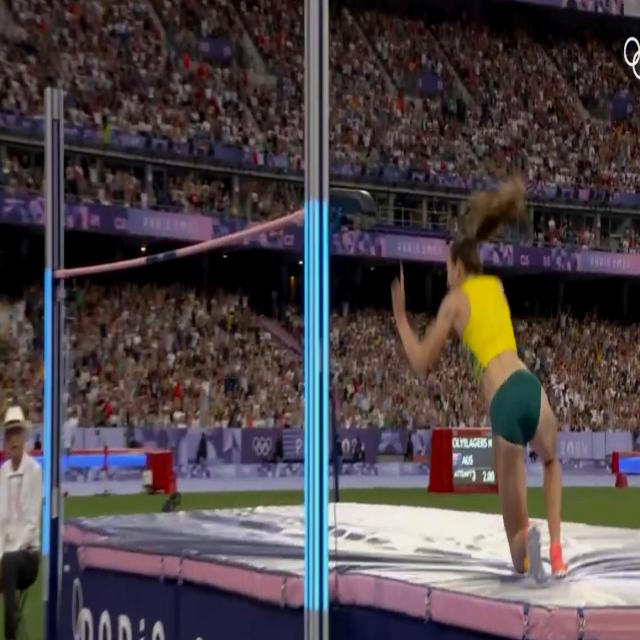land: (410, 260, 574, 582)
